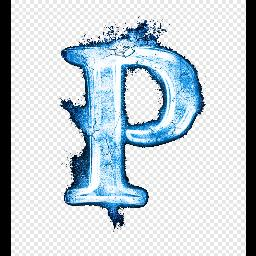p: (58, 36, 206, 204)
